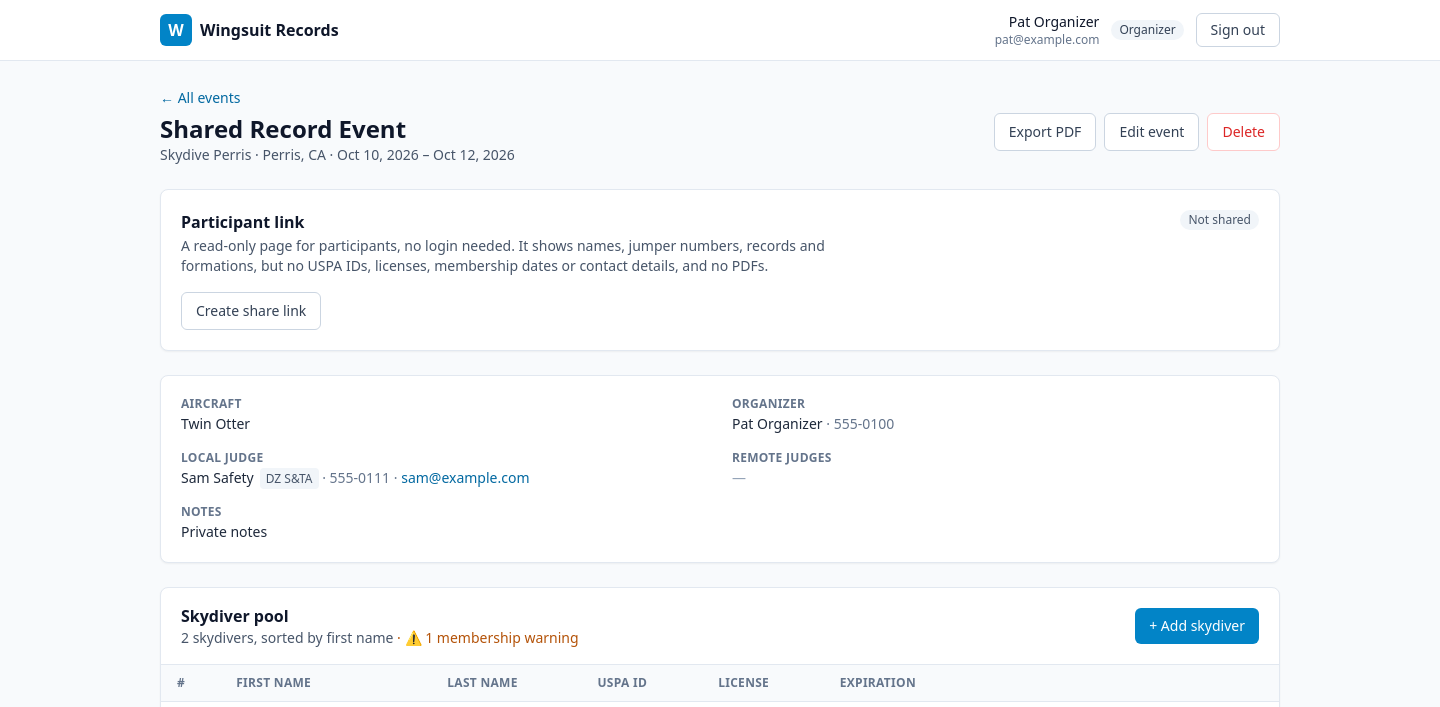
it: App › share links › owners create, replace and stop a participant link
Click the button "Create share link".
click(251, 311)  # box [181,292,321,330]
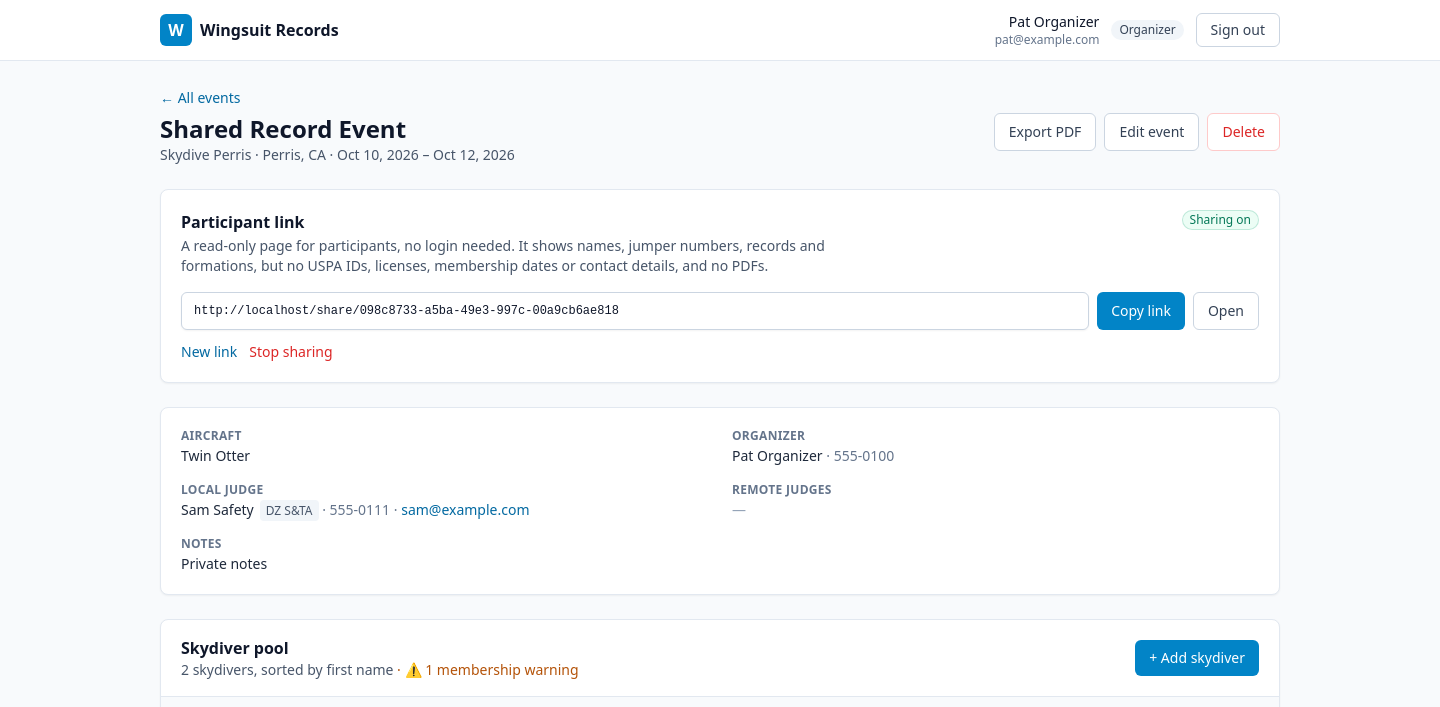
Click the button "New link".
click(209, 352)  # box [181,342,237,362]
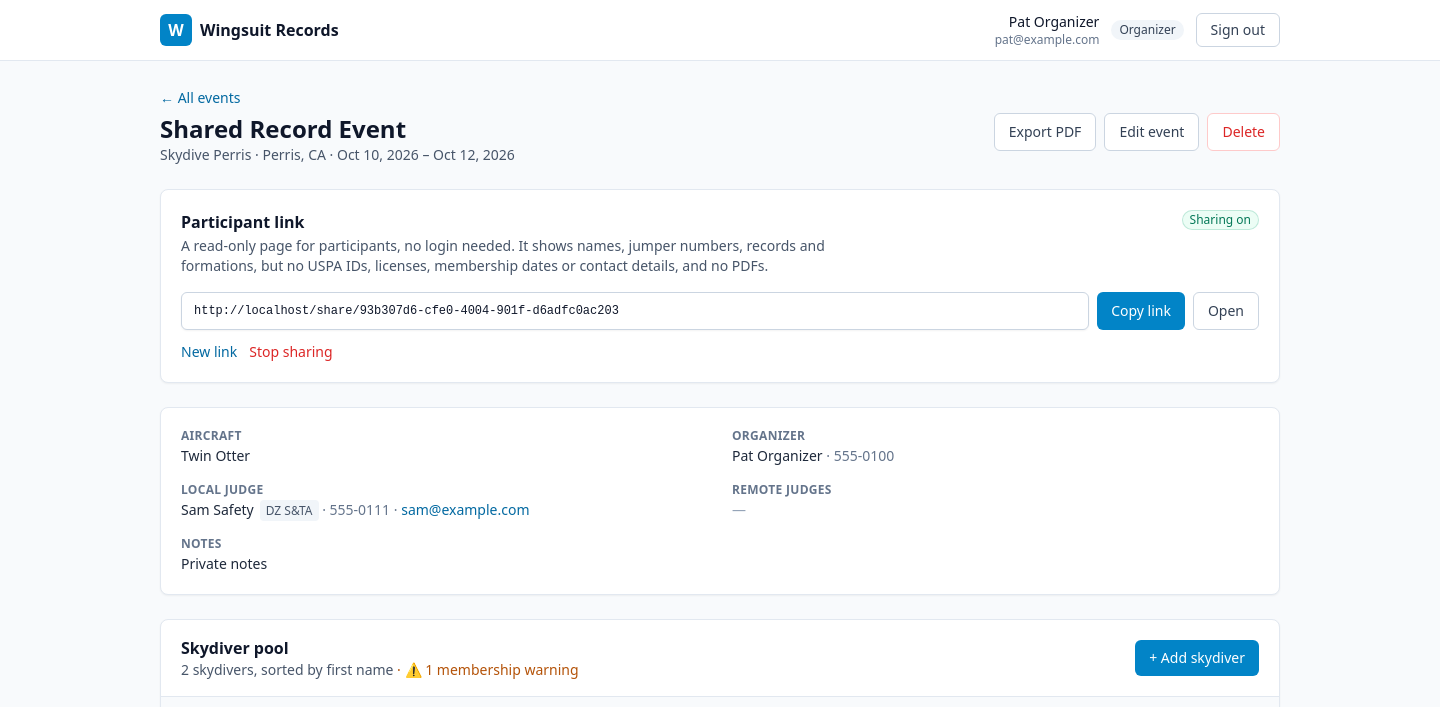
Check: the field named "Participant link" is shown, box [181,292,1089,330]
Click the button "Stop sharing".
click(291, 352)  # box [249,342,333,362]
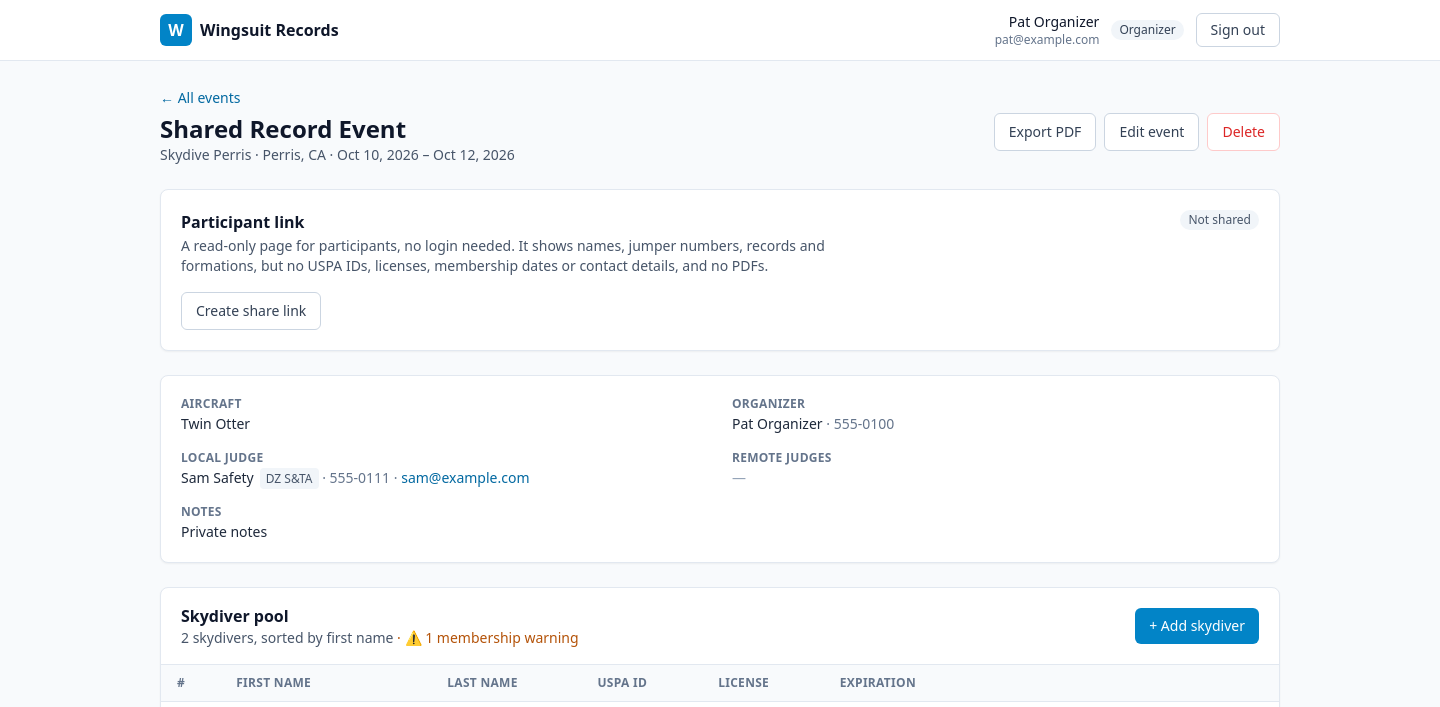
Check: the button "Create share link" is shown, box [181,292,321,330]
